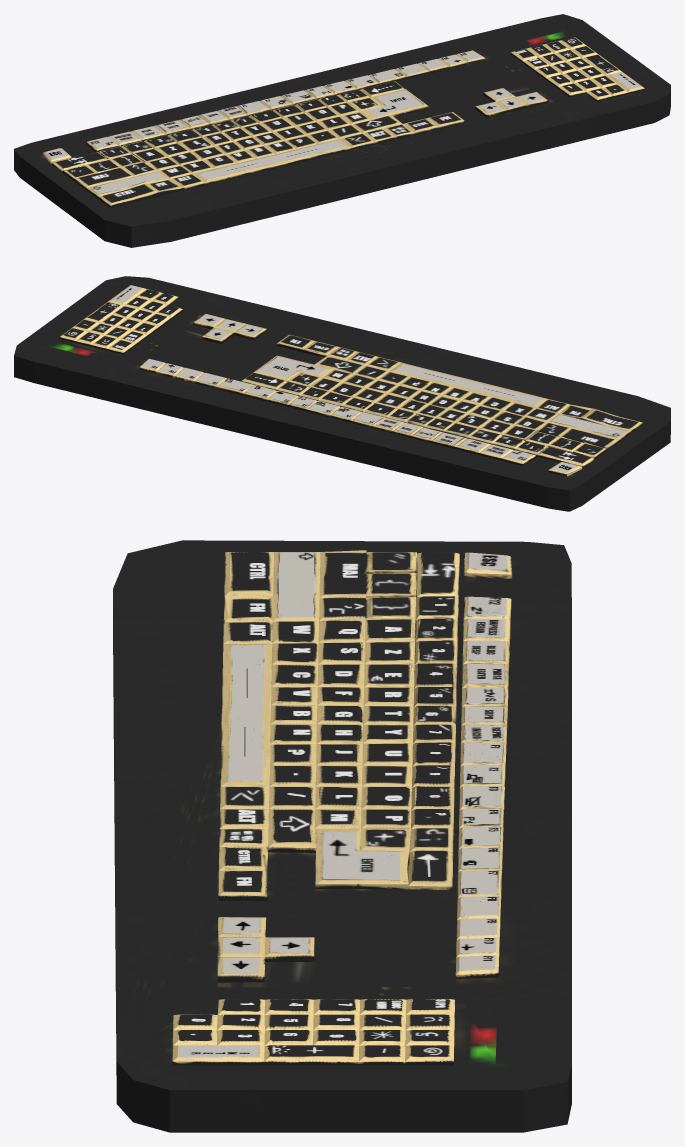
Rendered from CLAVIER.FBX.
3 renders of one model, top to bottom at view 1: azimuth 30°, elevation 25°; view 2: azimuth 150°, elevation 25°; view 3: azimuth 270°, elevation 25°, orthographic. The views are drawn at different scales.
Parts seen in each view (by area): view 1: Boîte001; view 2: Boîte001; view 3: Boîte001.
Part boxes in pixels (<box>): Boîte001: <box>14,14,670,247</box>; Boîte001: <box>14,276,670,511</box>; Boîte001: <box>113,540,571,1132</box>.
Size of the model in its own units: 86.14 by 3.84 by 30.4.
